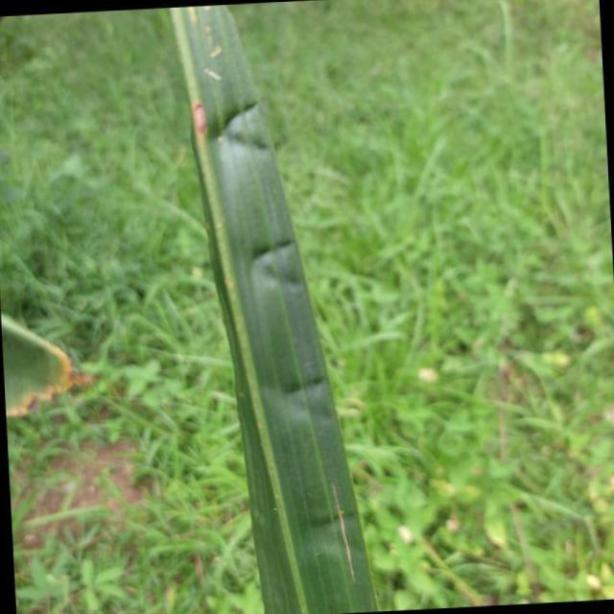Boron: (163, 0, 374, 614)
